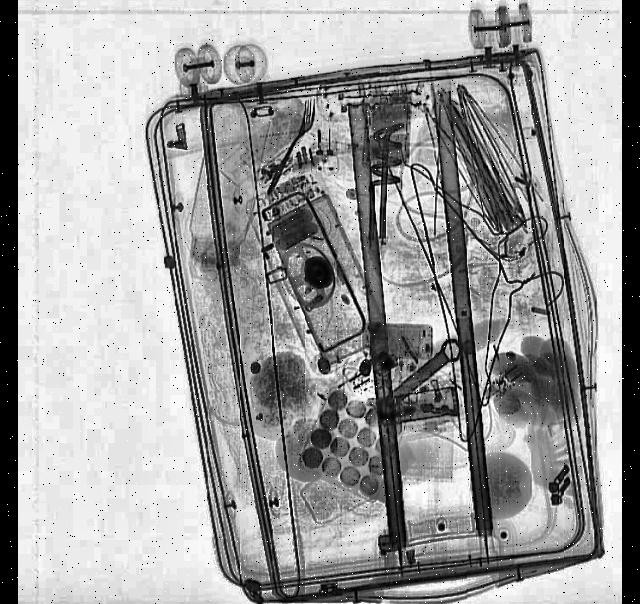Wrench: (379, 332, 466, 416)
